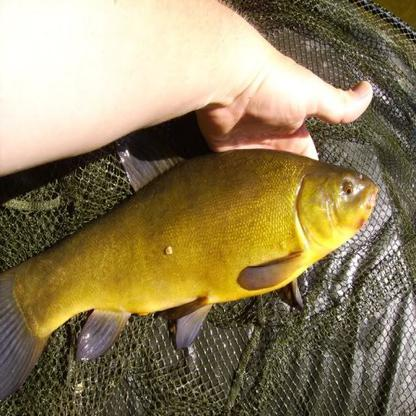fish: (1, 153, 378, 402)
